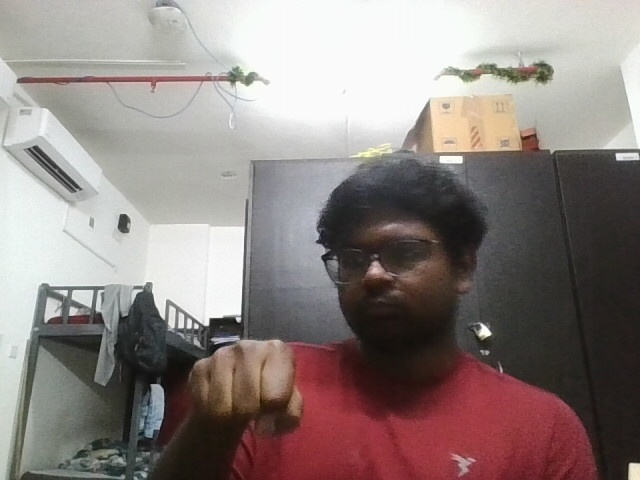Yes: (169, 329, 329, 442)
